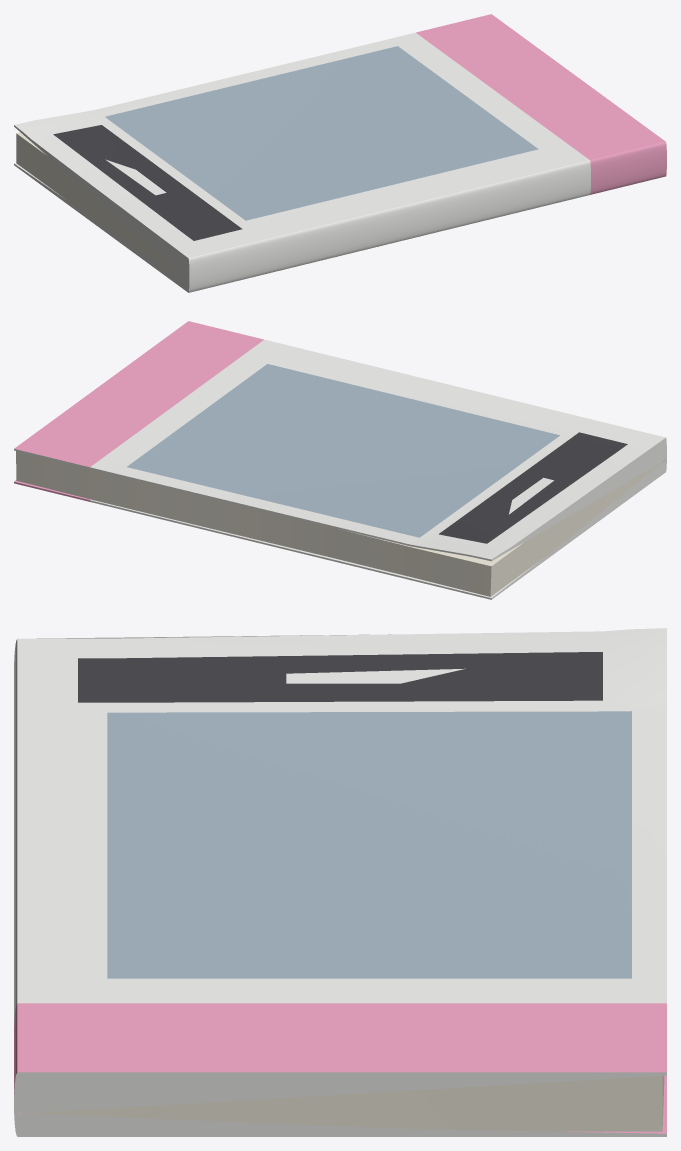
File: paper_book_d.fbx
3 views of the same model, one above another, from view 1: azimuth 30°, elevation 25°; view 2: azimuth 150°, elevation 25°; view 3: azimuth 270°, elevation 25° (orthographic). The views are drawn at different scales.
Parts seen in each view (by area): view 1: paper_book_d; view 2: paper_book_d; view 3: paper_book_d.
Boxes of the visible parts, x1,y1,x2,y2 form: paper_book_d: (14, 14, 666, 292); paper_book_d: (14, 321, 666, 599); paper_book_d: (14, 628, 666, 1136).
Bounding box in the file's own units: 0.176 × 0.0142 × 0.112.
